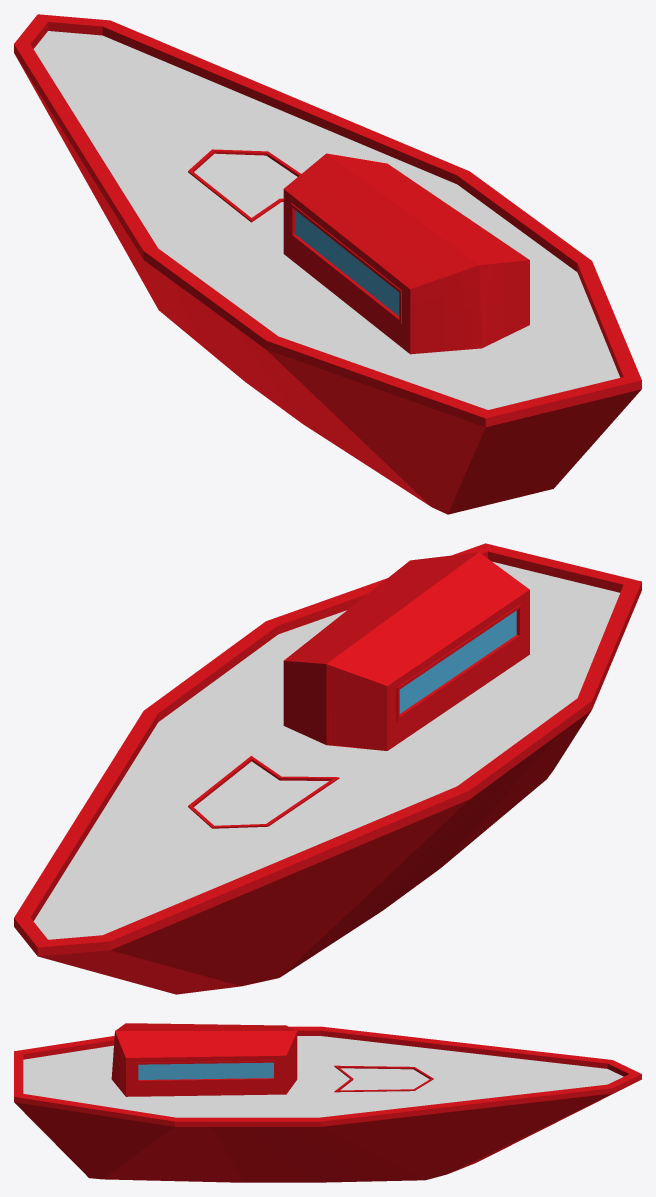
Rendered from ShipForTheShipGame.fbx.
The picture shows the model from 3 angles, top to bottom: view 1: azimuth 30°, elevation 25°; view 2: azimuth 150°, elevation 25°; view 3: azimuth 270°, elevation 25°; orthographic projection. The views are drawn at different scales.
Visible parts, largest first — view 1: Cube; view 2: Cube; view 3: Cube.
Boxes of the visible parts, left/top/right/bottom form: Cube: left=14, top=14, right=641, bottom=514; Cube: left=14, top=543, right=641, bottom=994; Cube: left=14, top=1023, right=641, bottom=1182.
Bounding box in the file's own units: 308 × 212 × 860.
